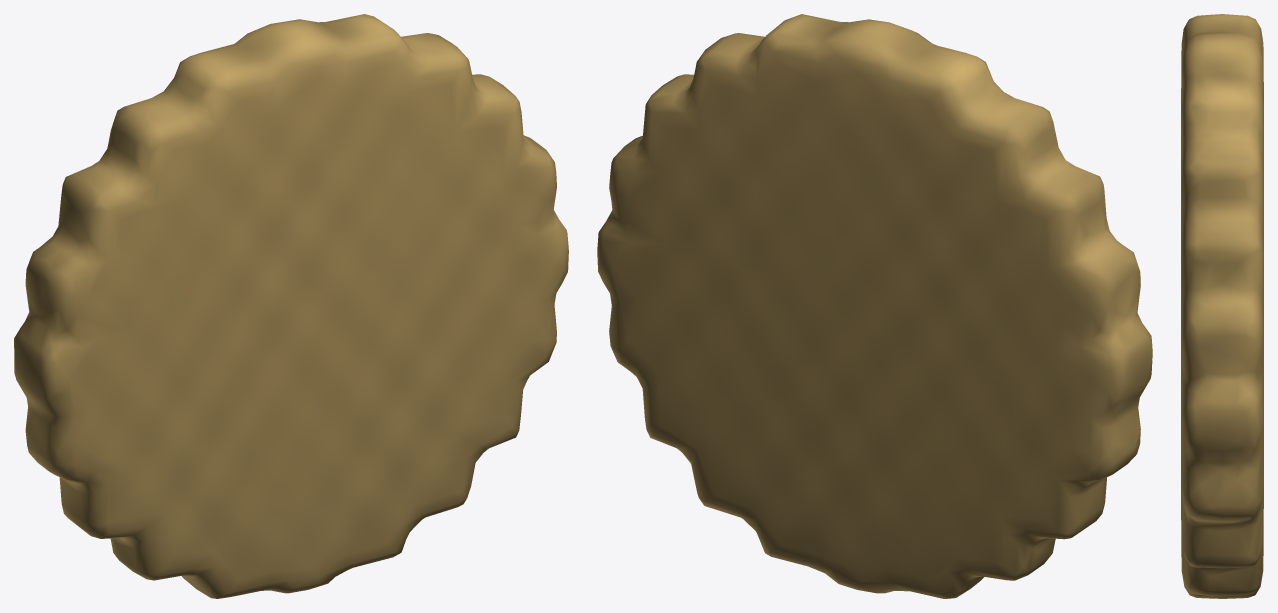
Rendered from gear_roller.glb.
3 views of the same model, side by side, from view 1: azimuth 30°, elevation 25°; view 2: azimuth 150°, elevation 25°; view 3: azimuth 270°, elevation 25° (orthographic). The views are drawn at different scales.
Parts seen in each view (by area): view 1: gear_roller; view 2: gear_roller; view 3: gear_roller.
Part boxes in pixels (x1,y1,x2,y2): gear_roller: (14,14,568,598); gear_roller: (597,14,1152,598); gear_roller: (1181,14,1263,598).
Size of the model in its own units: 3.52 by 3.52 by 0.5.
1 material, 1 textured.
